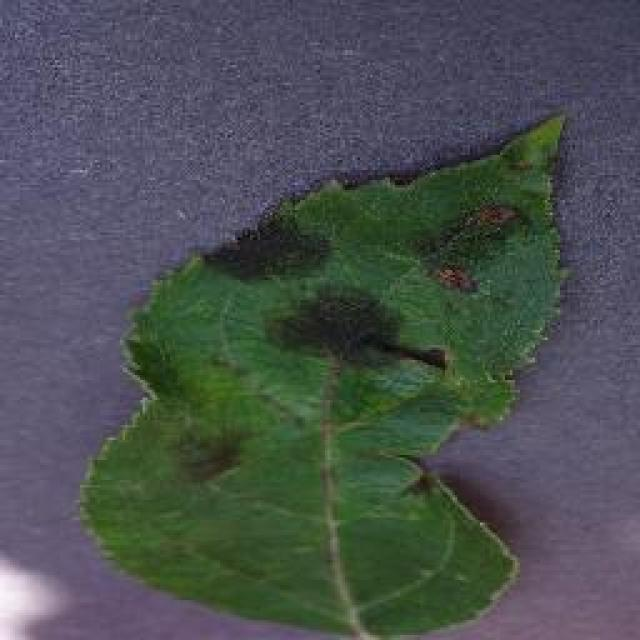apple scab disease: (75, 108, 573, 638)
